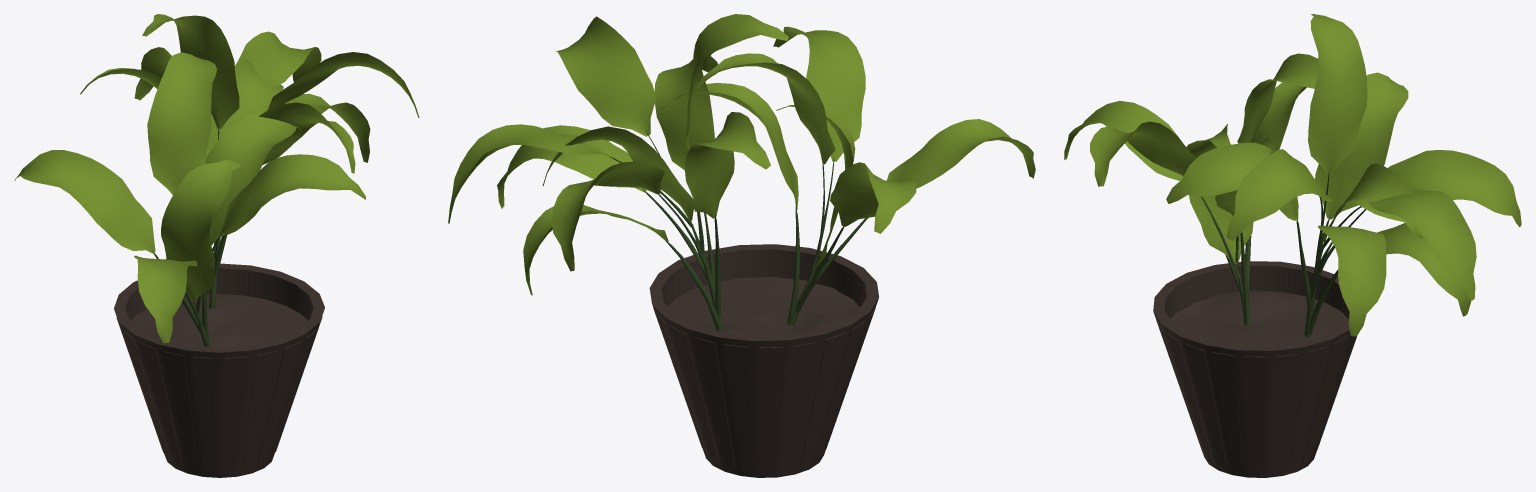
File: PLant4.fbx
3 renders of one model, left to right at view 1: azimuth 30°, elevation 25°; view 2: azimuth 150°, elevation 25°; view 3: azimuth 270°, elevation 25°, orthographic. The views are drawn at different scales.
Visible parts, largest first — view 1: palmLeafy3Leaf; view 2: palmLeafy3Leaf; view 3: palmLeafy3Leaf.
Part boxes in pixels (x1,y1,x2,y2): palmLeafy3Leaf: (14, 14, 419, 477); palmLeafy3Leaf: (448, 14, 1035, 477); palmLeafy3Leaf: (1064, 14, 1521, 477).
Bounding box in the file's own units: 29.47 × 33.18 × 32.14.
